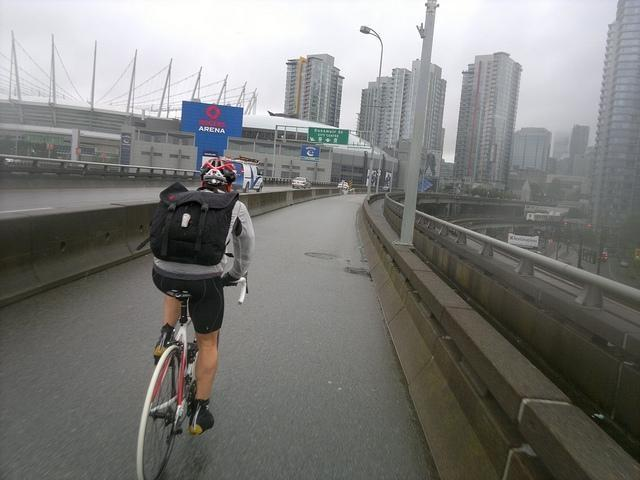bicycle: (150, 272, 250, 467), (132, 365, 162, 475)
car: (222, 160, 264, 196), (292, 175, 314, 188), (337, 181, 349, 189)
